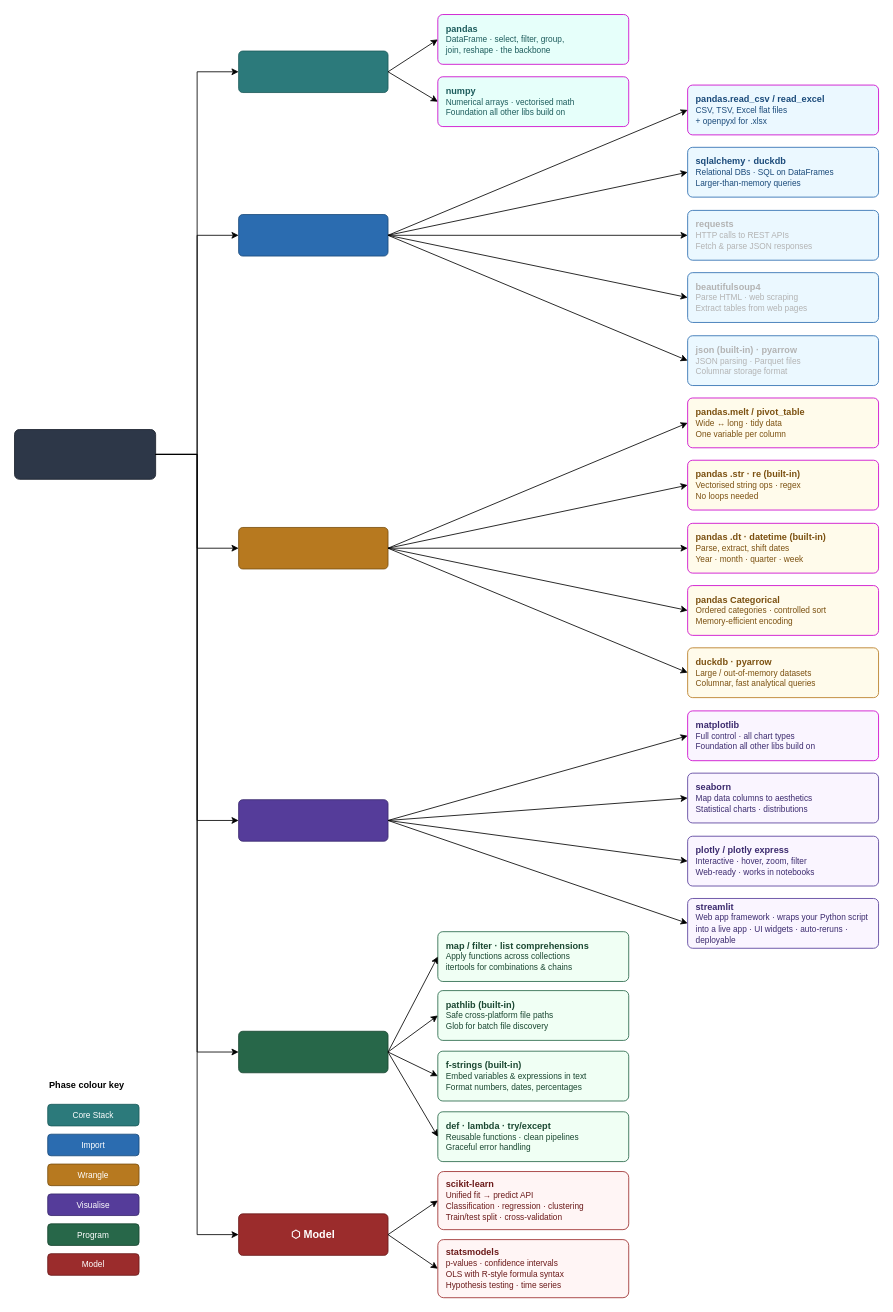
This 893x1312 diagram has some shape labels left out. The shapes that lost their labels are listed below. From the top down, each one's centre as x and y in pixels, then its label:
At [313,71]: "⬡ Core Stack".
At [313,235]: "⬡ Import".
At [85,454]: "Data workflow & Python packages".
At [313,548]: "⬡ Wrangle".
At [313,820]: "⬡ Visualise".
At [313,1051]: "⬡ Program".
